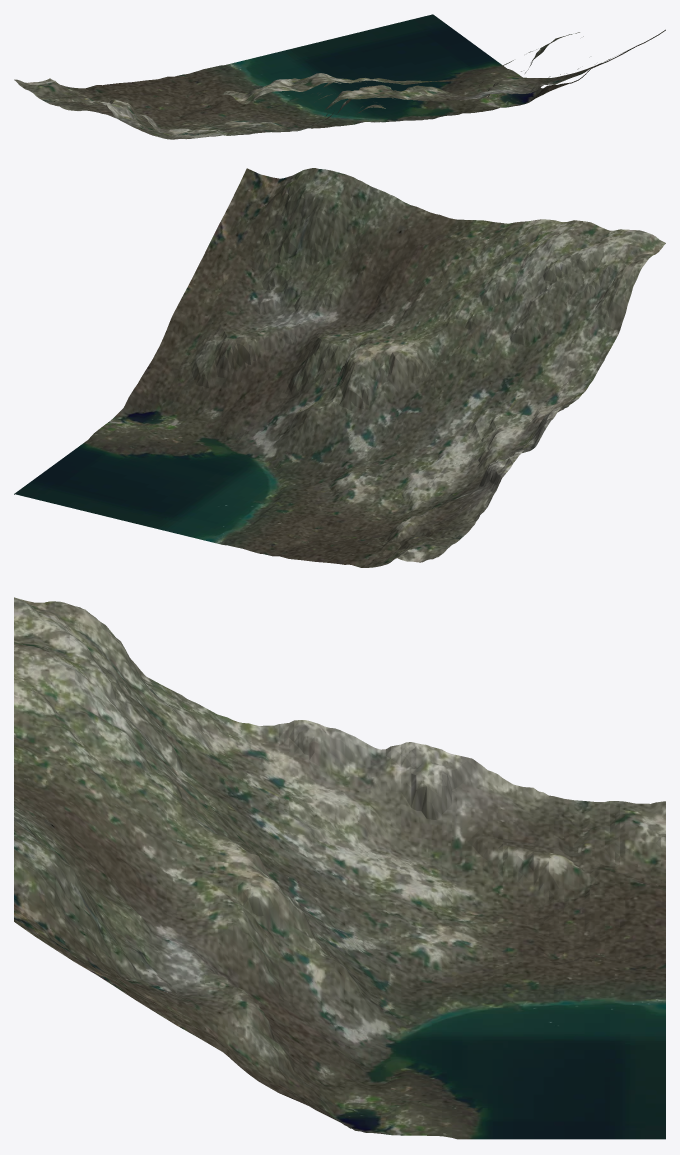
3 renders of one model, top to bottom at view 1: azimuth 30°, elevation 25°; view 2: azimuth 150°, elevation 25°; view 3: azimuth 270°, elevation 25°, orthographic. The views are drawn at different scales.
Size of the model in its own units: 500 by 217 by 481.
1 material, 1 textured.
